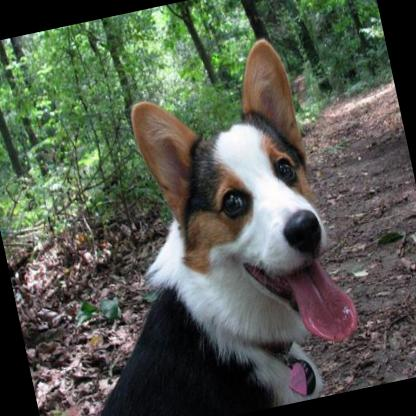Pembroke: (0, 27, 381, 416)
